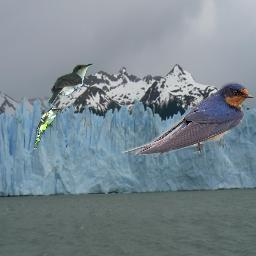Cuckoo: (47, 63, 94, 105), (34, 107, 61, 149)
Swallow: (121, 81, 255, 157)
